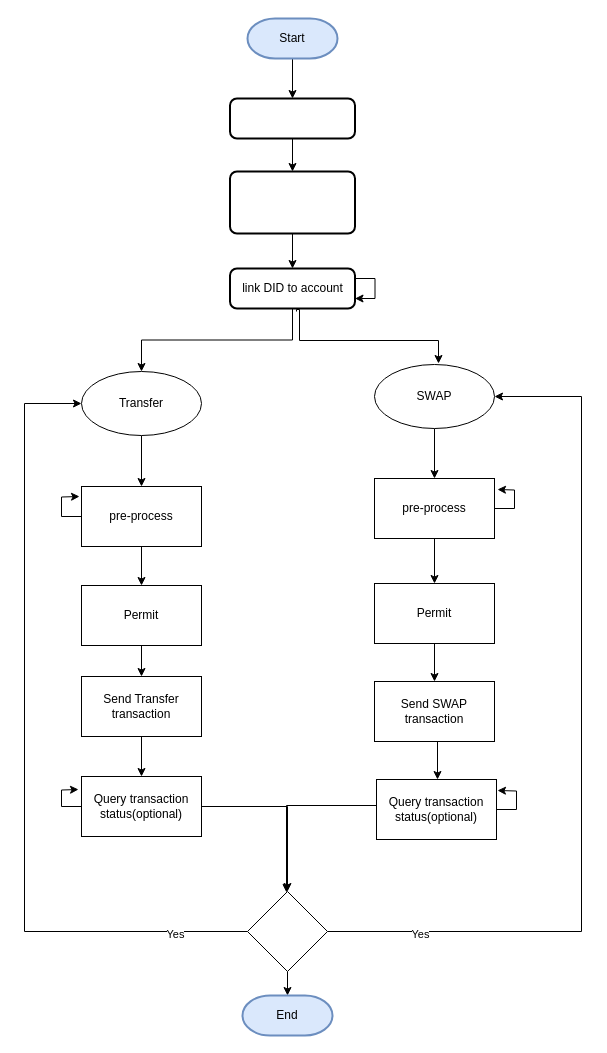
This 607x1053 diagram has some shape labels left out. Here are the shapes that lost their labels. From the top down, the centre of each, then its label:
At point (292, 118): "login".
At point (292, 202): "generate DID and DID document offline, Then upload DID document".
At point (287, 931): "do another?".
